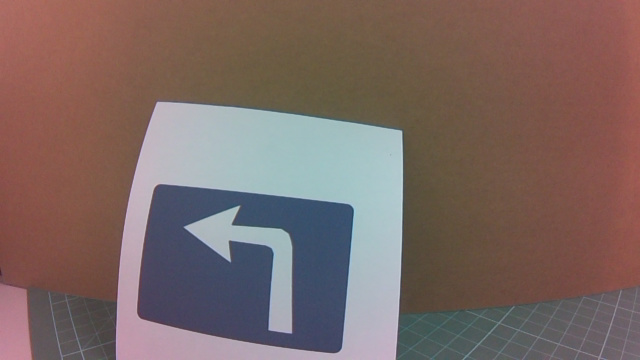left: (152, 183, 344, 351)
